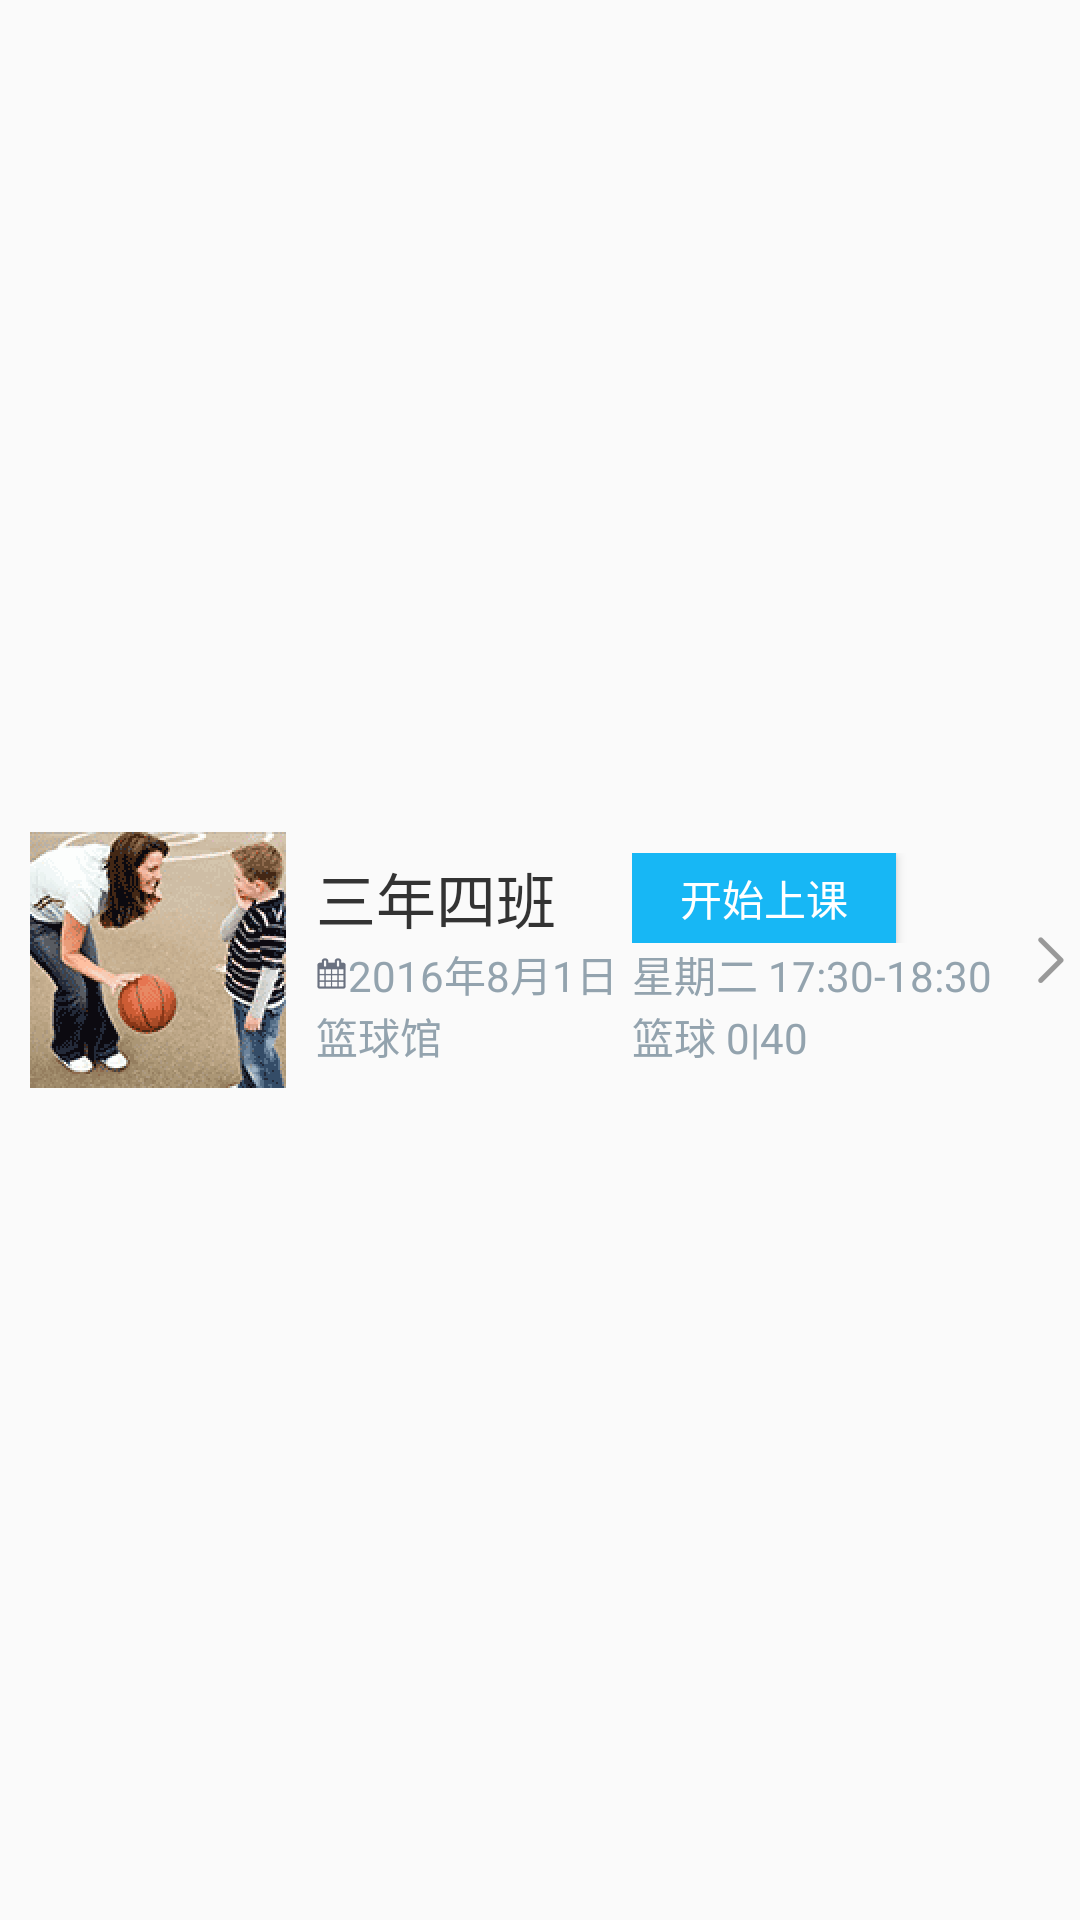

Screen size 1080×1920. Icon name, then its center in pixels as [x,y]:
course: [158,960]
right arrow: [1051,960]
time: [331,973]
